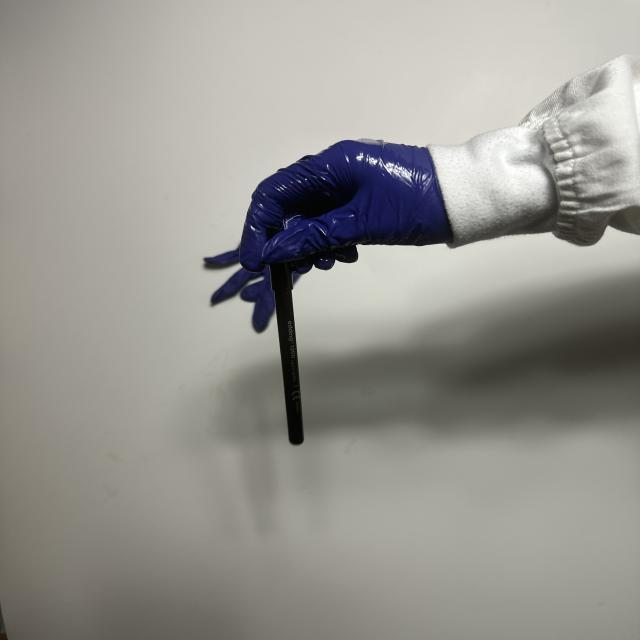gloves_contaminated: (239, 140, 453, 272)
